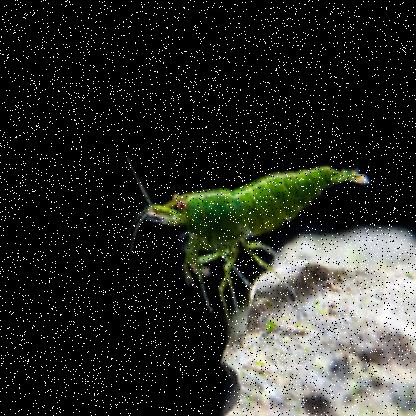shrimp: (123, 150, 380, 312)
